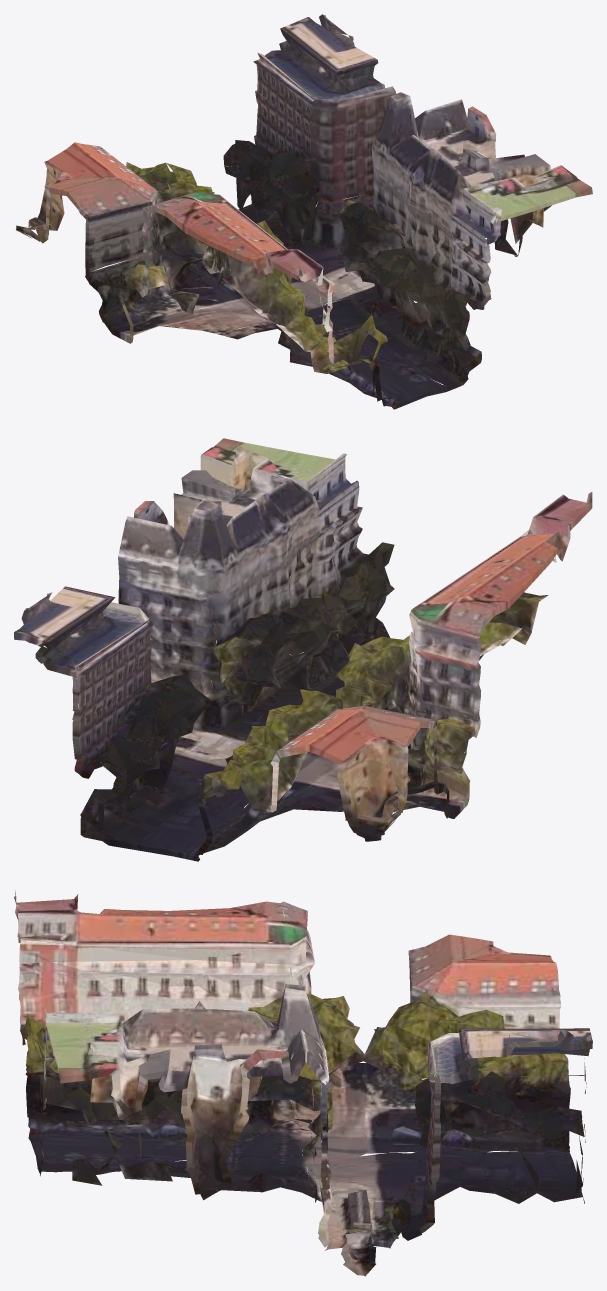
3 renders of one model, top to bottom at view 1: azimuth 30°, elevation 25°; view 2: azimuth 150°, elevation 25°; view 3: azimuth 270°, elevation 25°, orthographic. The views are drawn at different scales.
Visible parts, largest first — view 1: Mesh_0; view 2: Mesh_0; view 3: Mesh_0.
Part boxes in pixels (x1,y1,x2,y2): Mesh_0: (16, 14, 592, 409); Mesh_0: (14, 438, 592, 861); Mesh_0: (14, 890, 592, 1276).
Size of the model in its own units: 66.88 by 40.55 by 82.55.
1 material, 1 textured.
